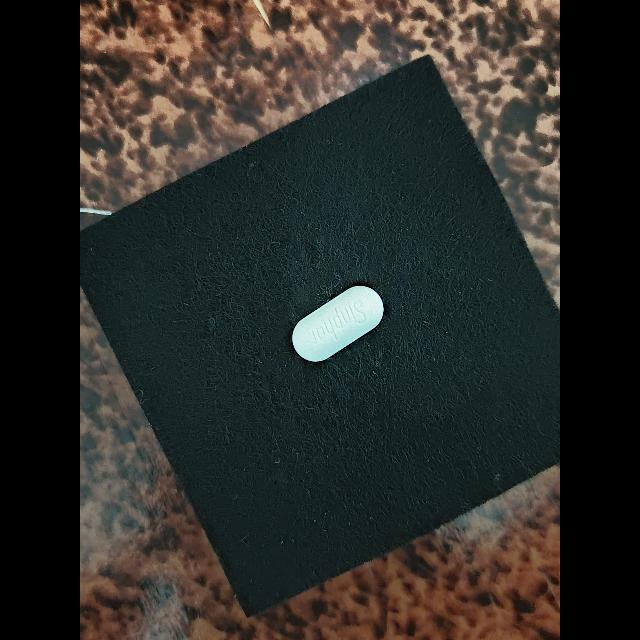Intact Pill: (292, 286, 384, 362)
